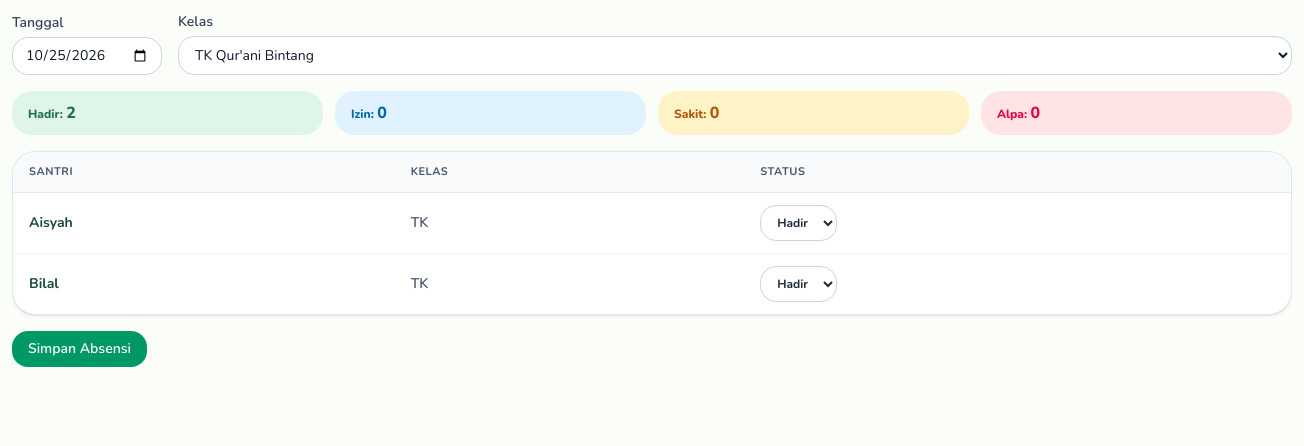
Test: AttendanceGrid › posts the batch { class_id, date, records } with ALL rows when saving
The width and height of the screenshot is (1304, 446).
Expected: the text "Aisyah" is shown, [13,193,395,253]
Expected: the button "Simpan Absensi" is enabled, [12,331,147,367]
Select "Izin" in the dropdown named "Status Aisyah" at (799, 223), box [760,205,837,241]
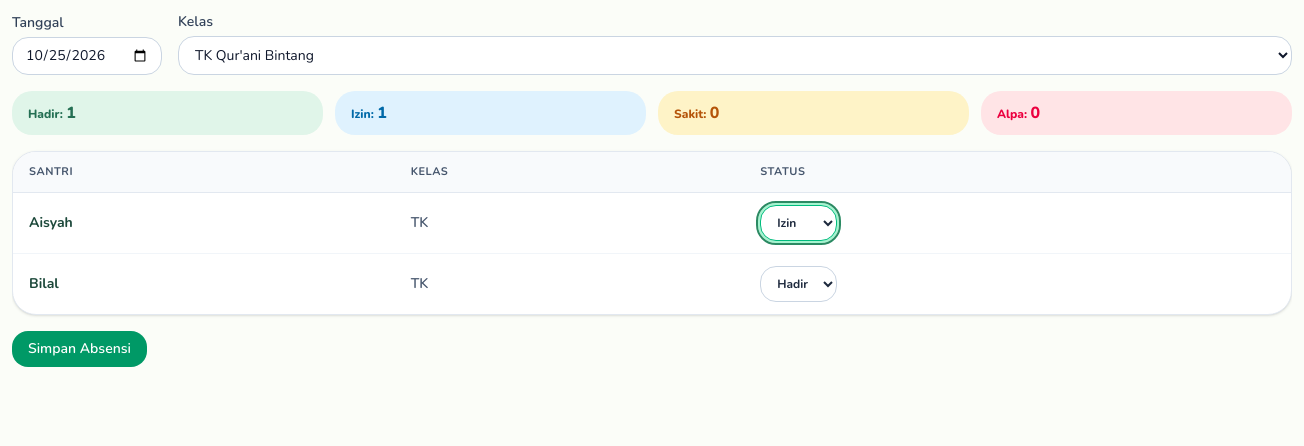
Click the button "Simpan Absensi".
click(79, 349)  # box [12,331,147,367]
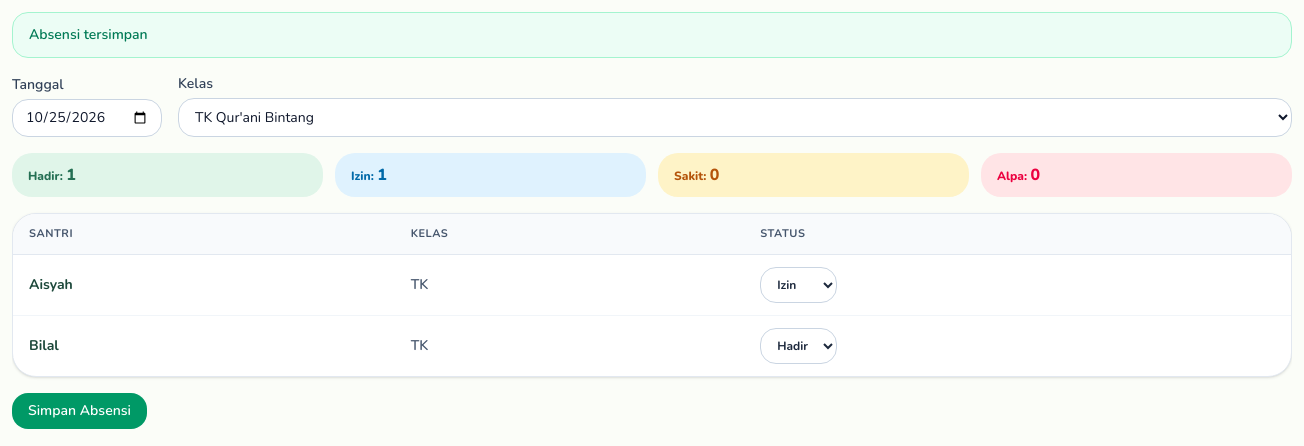
Expected: the text "Absensi tersimpan" is shown, [12,12,1292,58]
